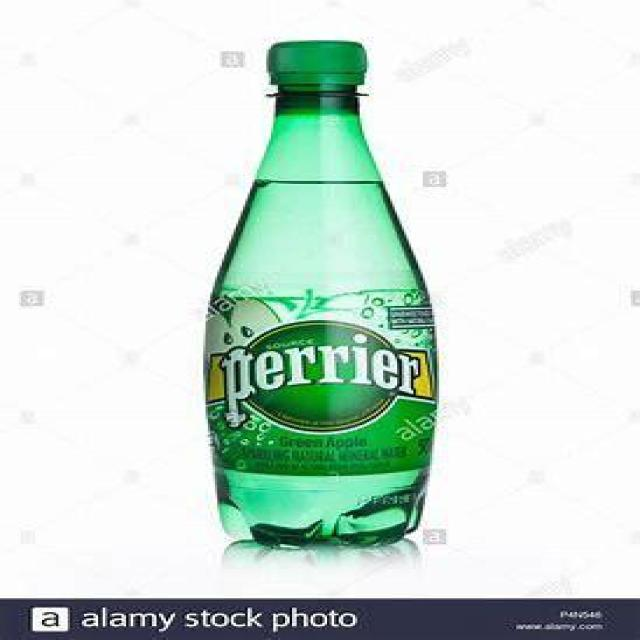bottle: (204, 33, 436, 550)
